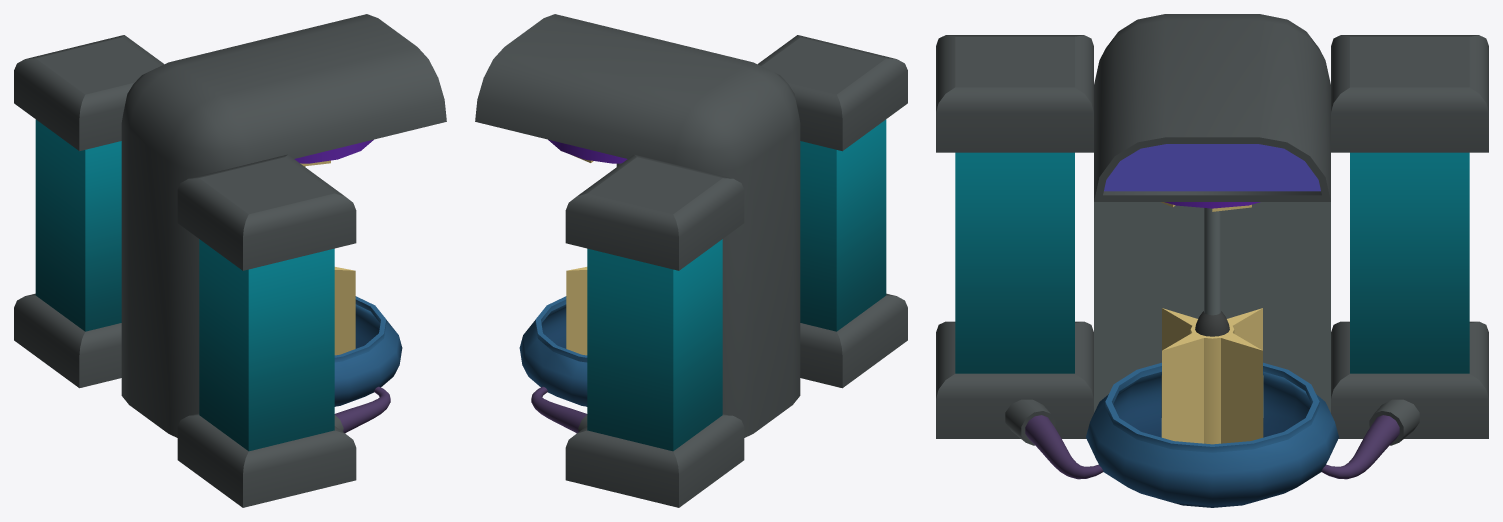
Rendered from RotateMachine.fbx.
3 views of the same model, side by side, from view 1: azimuth 30°, elevation 25°; view 2: azimuth 150°, elevation 25°; view 3: azimuth 270°, elevation 25° (orthographic). The views are drawn at different scales.
Parts seen in each view (by area): view 1: Cube, Machine, BézierCurve, Rotate; view 2: Cube, Machine, BézierCurve, Rotate; view 3: Cube, Machine, BézierCurve, Rotate.
Part boxes in pixels (left/top/right/bottom): Cube: left=14, top=35, right=356, bottom=507; Machine: left=121, top=14, right=446, bottom=437; BézierCurve: left=334, top=296, right=402, bottom=433; Rotate: left=300, top=160, right=355, bottom=355; Cube: left=565, top=35, right=907, bottom=507; Machine: left=475, top=14, right=800, bottom=437; BézierCurve: left=519, top=296, right=587, bottom=433; Rotate: left=566, top=155, right=621, bottom=355; Cube: left=936, top=35, right=1488, bottom=438; Machine: left=1094, top=14, right=1330, bottom=412; BézierCurve: left=1005, top=362, right=1419, bottom=507; Rotate: left=1161, top=202, right=1263, bottom=444.
Bounding box in the file's own units: 476 × 553 × 700.
Materials: 3 (3 with a texture image).
